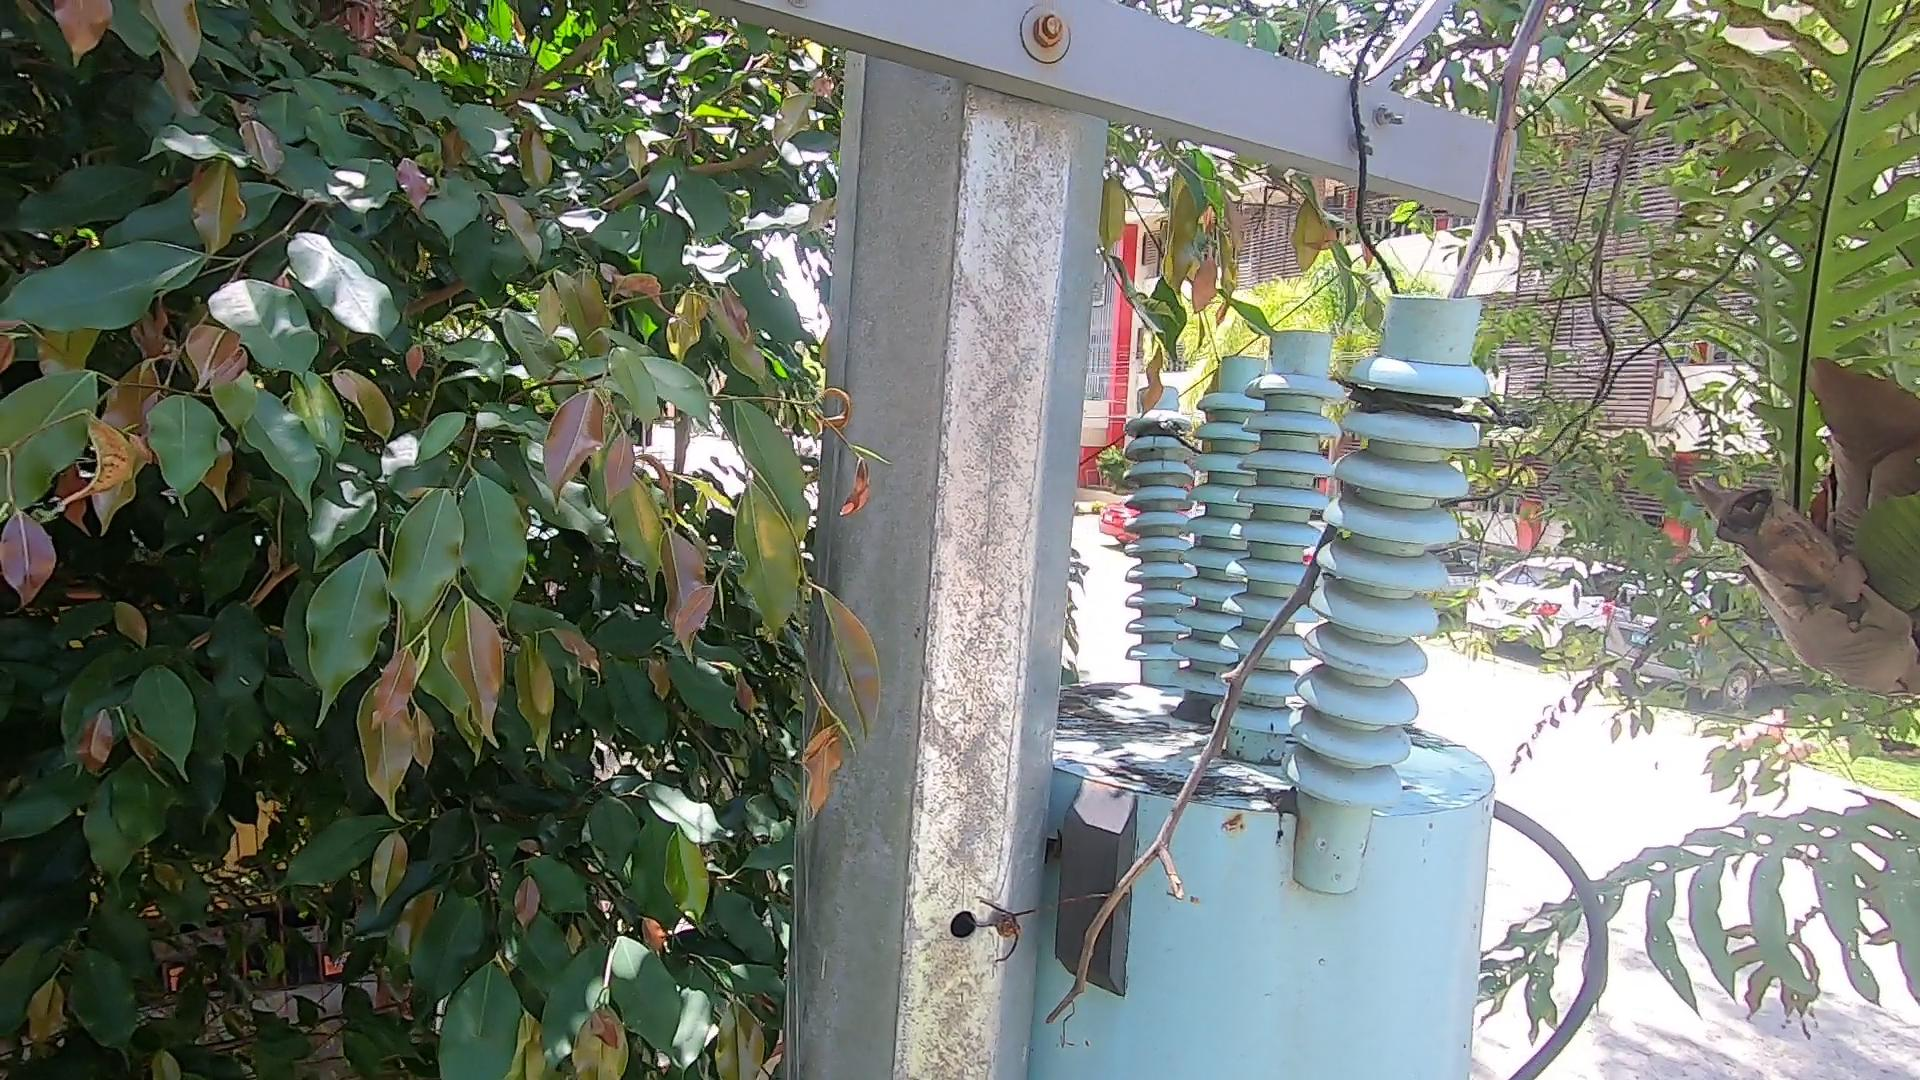branch with leaves: (1101, 185, 1383, 439)
leaf: (1164, 684, 1240, 746), (1263, 753, 1313, 832)
tree branch: (884, 11, 1588, 1036)
